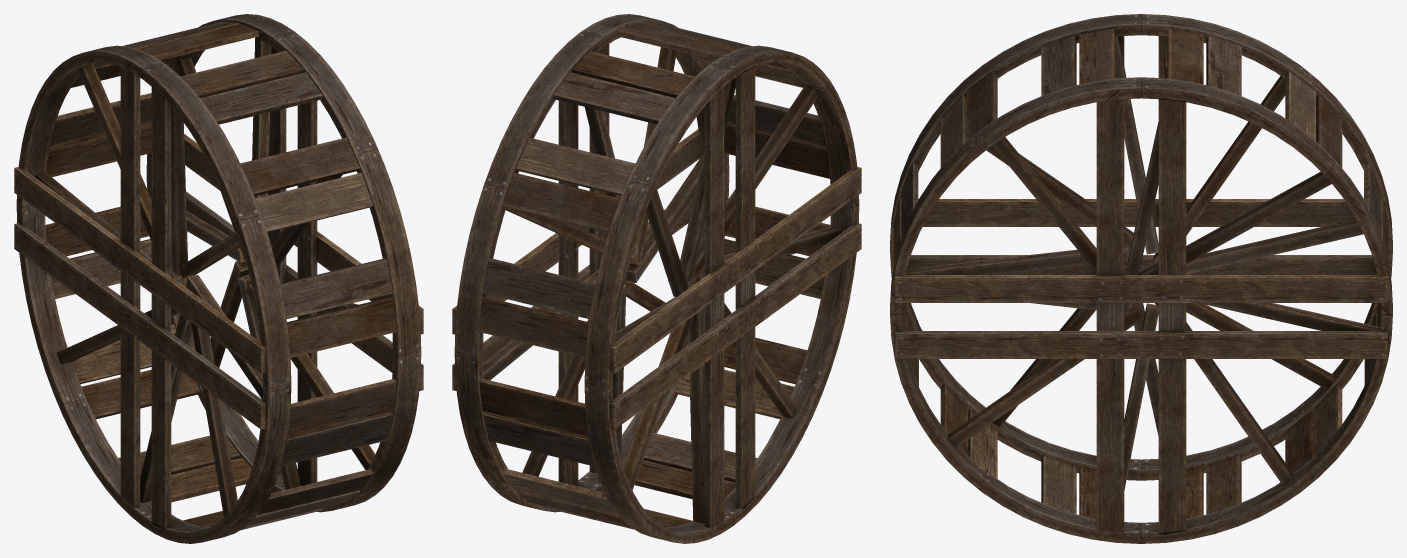
File: SM_Wheel.fbx
The picture shows the model from 3 angles, left to right: view 1: azimuth 30°, elevation 25°; view 2: azimuth 150°, elevation 25°; view 3: azimuth 270°, elevation 25°; orthographic projection.
Parts seen in each view (by area): view 1: SM_Wheel_LOD0; view 2: SM_Wheel_LOD0; view 3: SM_Wheel_LOD0.
Part boxes in pixels (<box>): SM_Wheel_LOD0: <box>14,14,423,543</box>; SM_Wheel_LOD0: <box>452,14,861,543</box>; SM_Wheel_LOD0: <box>890,14,1392,543</box>.
Size of the model in its own units: 158 by 424 by 424.
Materials: 2 (2 with a texture image).
